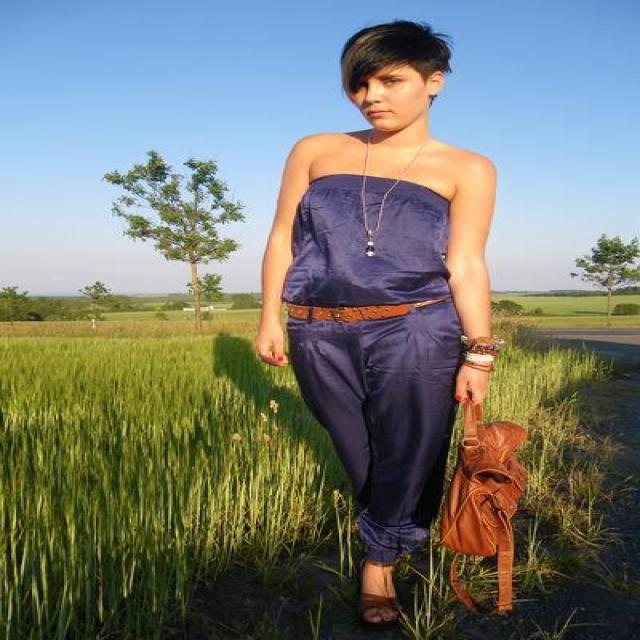bag: (430, 397, 534, 600)
pants: (286, 305, 478, 575)
shirt: (280, 174, 458, 319)
shoe: (362, 586, 404, 620)
